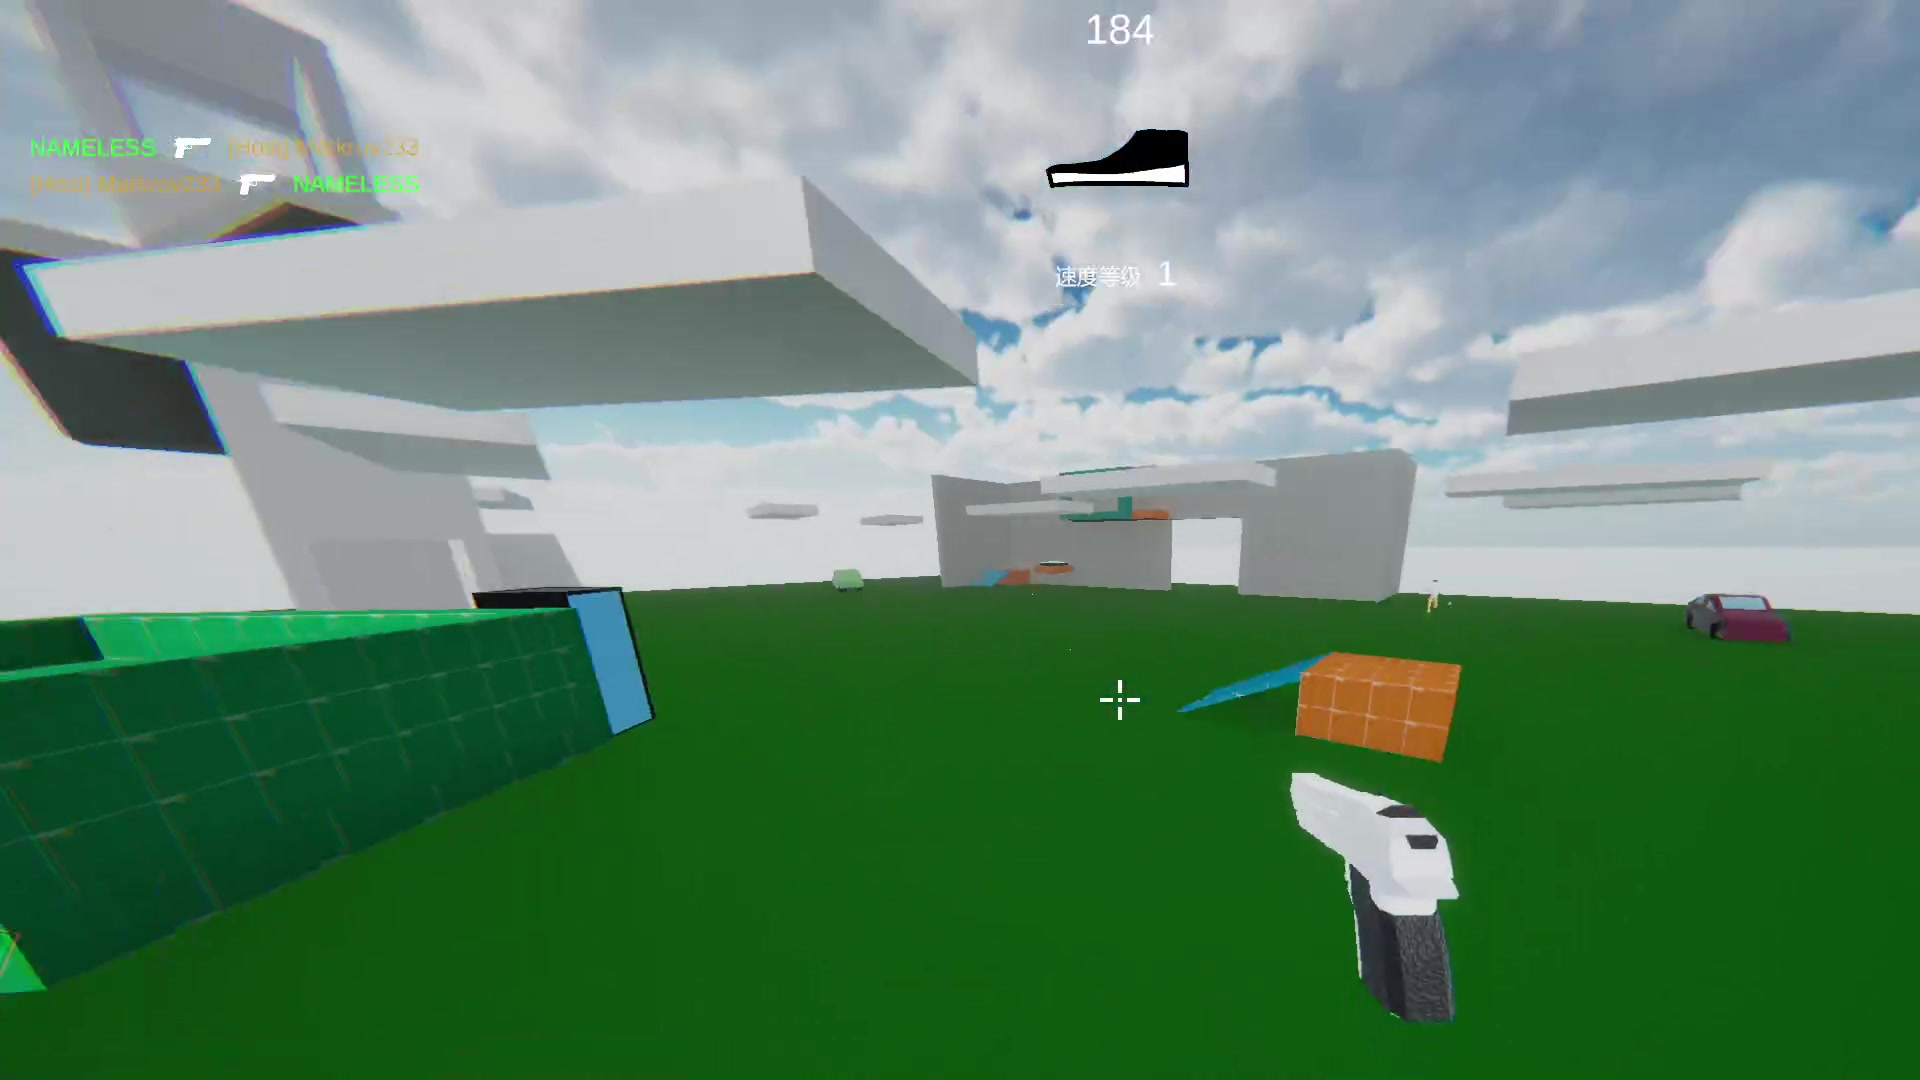human: (1429, 582, 1443, 616)
